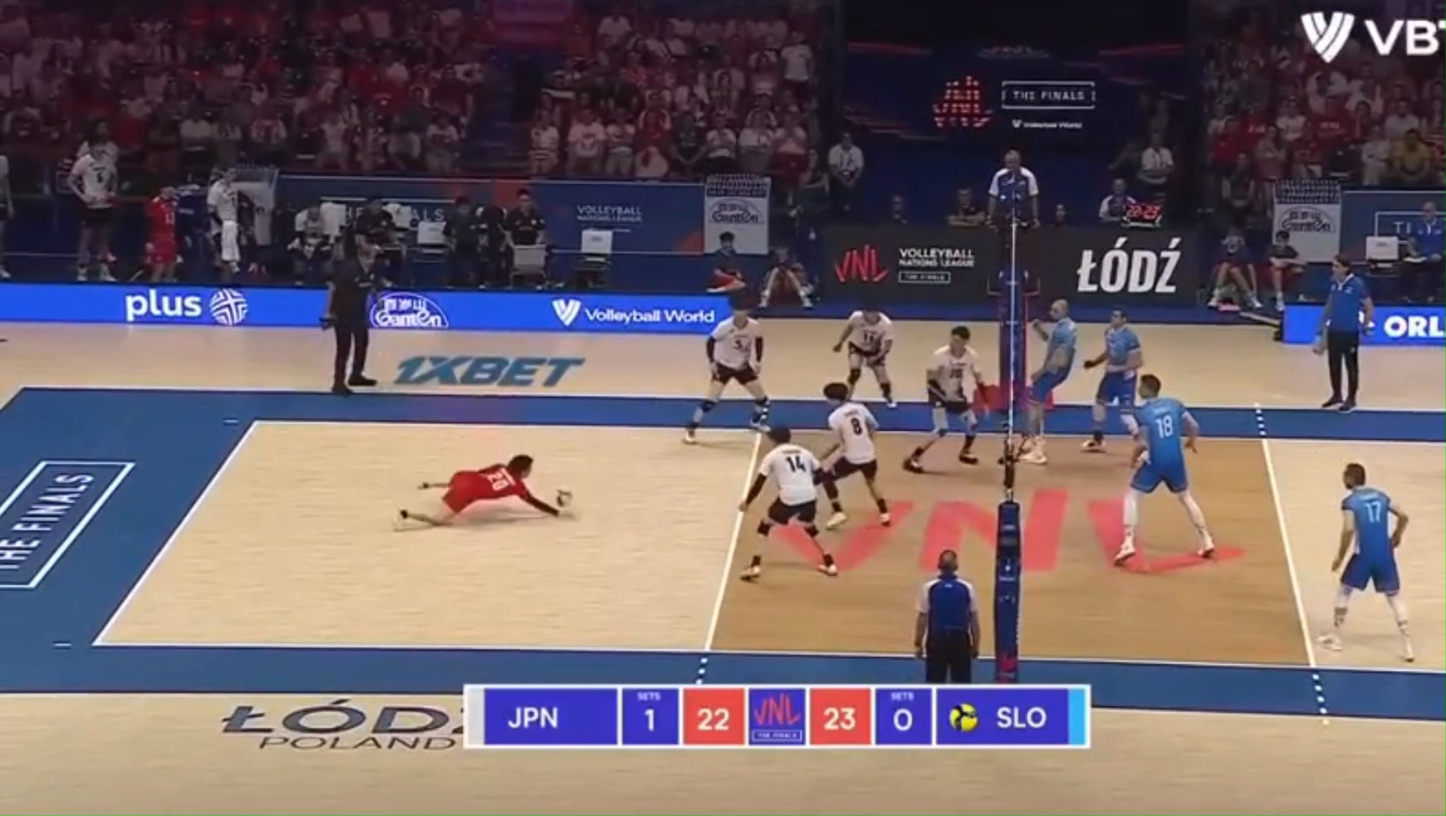ball: (555, 490, 573, 507)
player: (1318, 462, 1414, 661), (1114, 374, 1214, 564), (1021, 299, 1077, 464), (1082, 309, 1142, 451)
player 1: (740, 426, 837, 576), (684, 300, 770, 444), (903, 325, 987, 471), (399, 455, 561, 526), (822, 382, 891, 528), (833, 307, 897, 407), (740, 551, 762, 581)
referee: (321, 233, 378, 395), (914, 550, 980, 684), (1316, 258, 1373, 412), (987, 150, 1040, 298)
